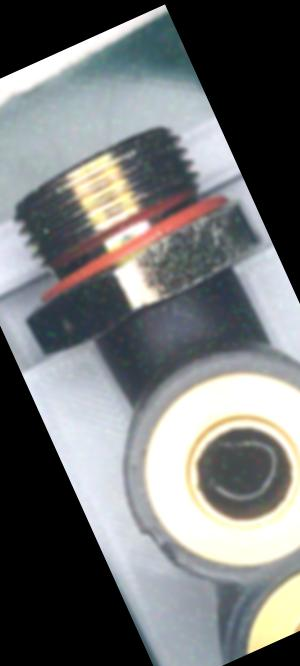bump: (141, 517, 181, 573)
joint line: (163, 317, 188, 351)
off-centered: (186, 416, 297, 522)
white mark: (170, 292, 205, 331), (154, 303, 174, 324)
